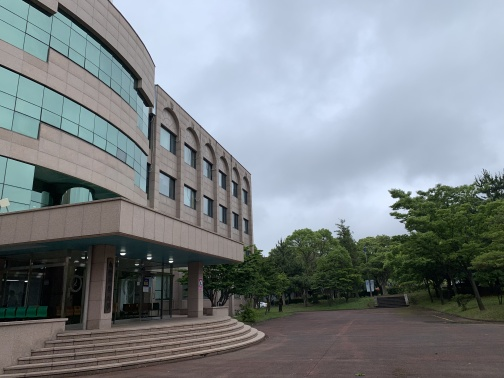Natural Science2: (3, 3, 261, 367)
